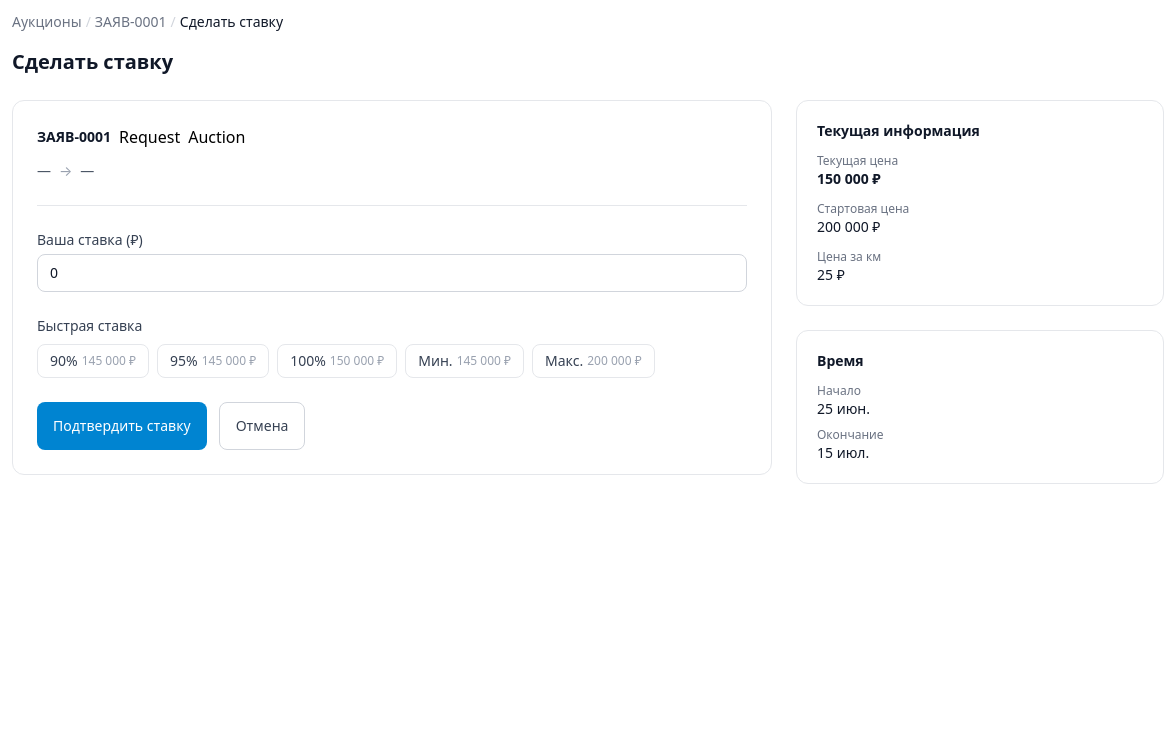
Test: PlaceBetPage integration › submits bet and shows pending state
The width and height of the screenshot is (1164, 732).
Check: the heading "Сделать ставку" is shown, box [12,48,173,75]
Replace the text in the number field labelled "Ваша ставка (₽)" with "150000" at (392, 273), box [37,254,747,292]
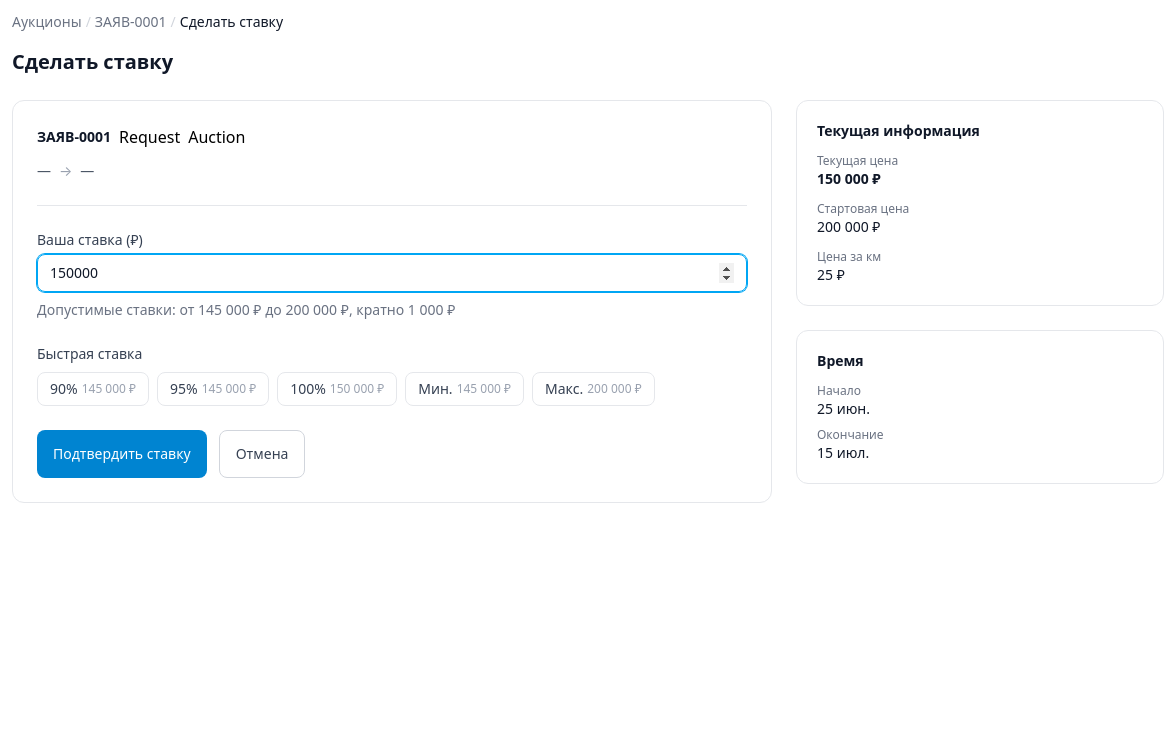
Click the button "Подтвердить ставку".
click(122, 454)  # box [37,430,207,478]
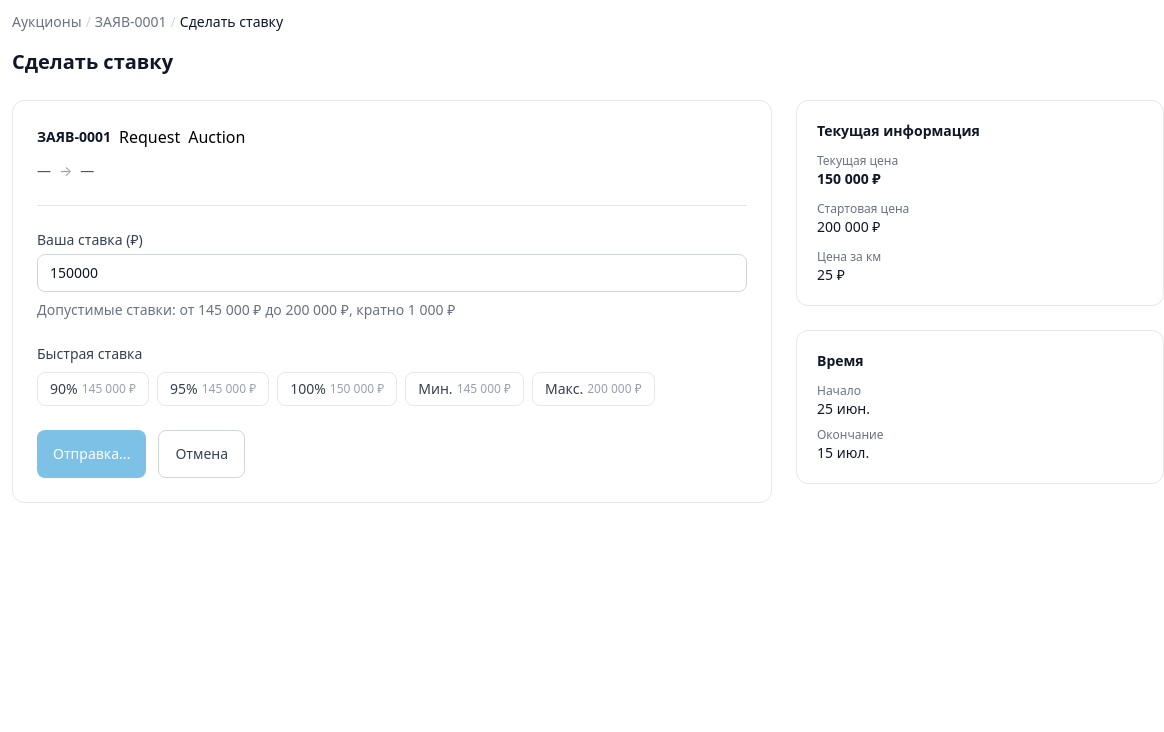
Check: the button named "Подтвердить ставку" is disabled, box [37,430,146,478]
